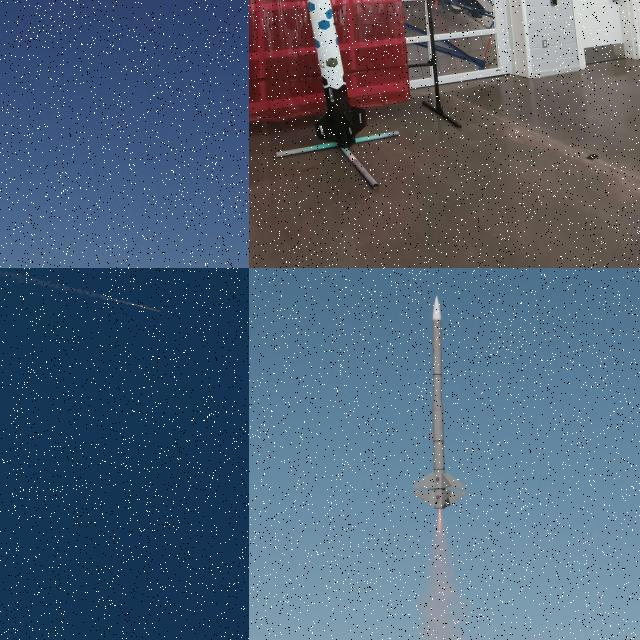Rocket: (412, 294, 469, 511), (307, 0, 367, 148), (140, 305, 160, 312)
